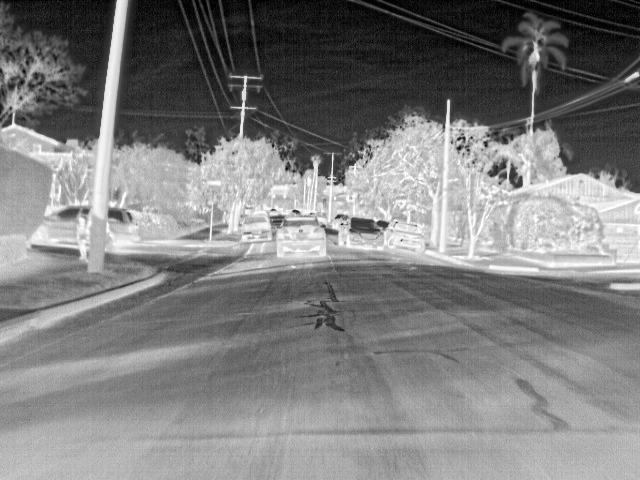car: (31, 204, 91, 246), (274, 215, 328, 256), (338, 216, 384, 248), (106, 204, 140, 246), (386, 220, 424, 252), (240, 214, 272, 242), (331, 212, 348, 230), (266, 206, 280, 217), (378, 222, 391, 232), (292, 206, 303, 216)
person: (75, 214, 88, 260)
